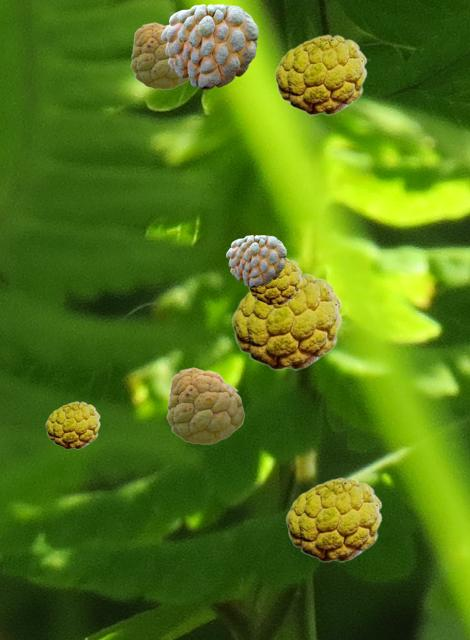atis: (231, 272, 341, 369), (161, 4, 257, 88), (285, 477, 381, 561), (274, 34, 366, 114), (166, 367, 243, 443), (130, 22, 188, 88), (226, 235, 285, 286), (45, 401, 99, 448), (248, 257, 301, 304)
